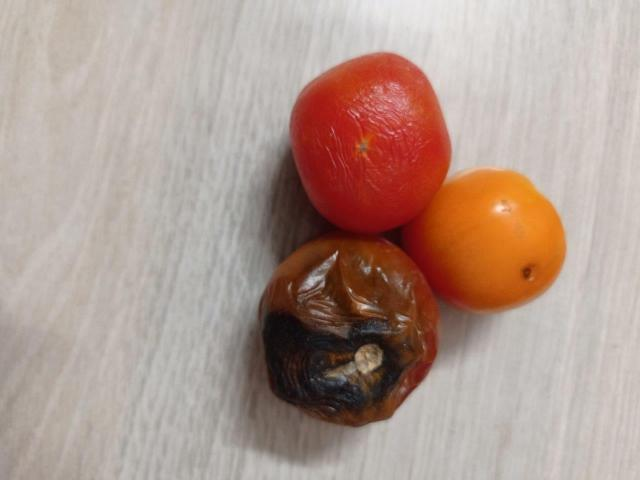defect: (254, 226, 442, 429), (287, 50, 452, 237)
